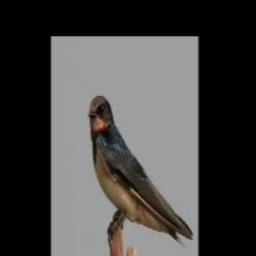Swallow: (89, 97, 193, 244)
